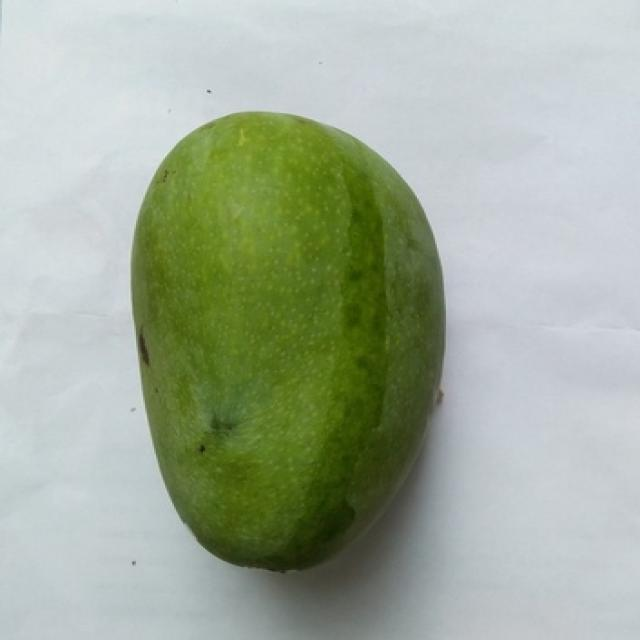Mango: (132, 113, 444, 570)
